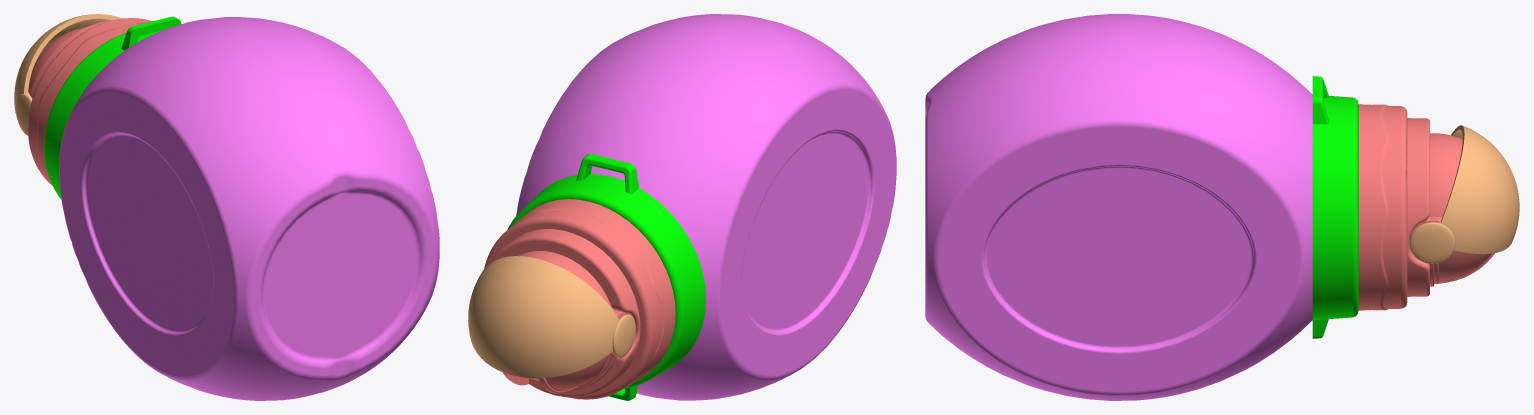
File: Bottle.gltf
3 views of the same model, side by side, from view 1: azimuth 30°, elevation 25°; view 2: azimuth 150°, elevation 25°; view 3: azimuth 270°, elevation 25° (orthographic). The views are drawn at different scales.
Visible parts, largest first — view 1: 2.19.7_650ml, Lid (2.19.4), Holder (2.19.7), Cap (2.19.4); view 2: 2.19.7_650ml, Lid (2.19.4), Cap (2.19.4), Holder (2.19.7); view 3: 2.19.7_650ml, Lid (2.19.4), Holder (2.19.7), Cap (2.19.4).
Boxes of the visible parts, x1,y1,x2,y2 form: 2.19.7_650ml: (59, 17, 439, 400); Lid (2.19.4): (28, 18, 152, 185); Holder (2.19.7): (44, 16, 181, 199); Cap (2.19.4): (14, 14, 121, 135); 2.19.7_650ml: (516, 14, 896, 400); Lid (2.19.4): (484, 199, 675, 399); Cap (2.19.4): (468, 256, 635, 378); Holder (2.19.7): (507, 153, 705, 400); 2.19.7_650ml: (925, 14, 1312, 400); Lid (2.19.4): (1358, 104, 1494, 310); Holder (2.19.7): (1312, 76, 1358, 338); Cap (2.19.4): (1409, 125, 1519, 263).
Size of the model in its own units: 0.0759 by 0.1199 by 0.1841.
